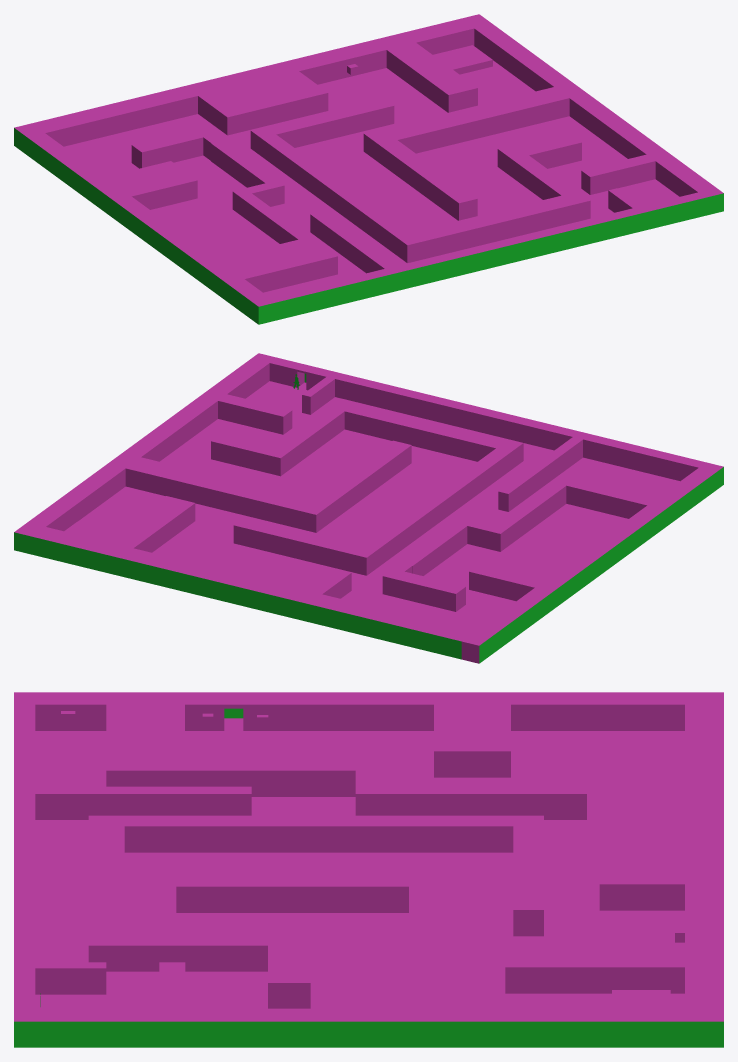
Rendered from Laberinto.FBX.
3 renders of one model, top to bottom at view 1: azimuth 30°, elevation 25°; view 2: azimuth 150°, elevation 25°; view 3: azimuth 270°, elevation 25°, orthographic. The views are drawn at different scales.
Parts seen in each view (by area): view 1: Model; view 2: Model; view 3: Model.
Part boxes in pixels (x1,y1,x2,y2): Model: (14, 14, 723, 324); Model: (14, 353, 723, 663); Model: (14, 692, 723, 1047).
Size of the model in its own units: 2124 by 78.74 by 1935.
